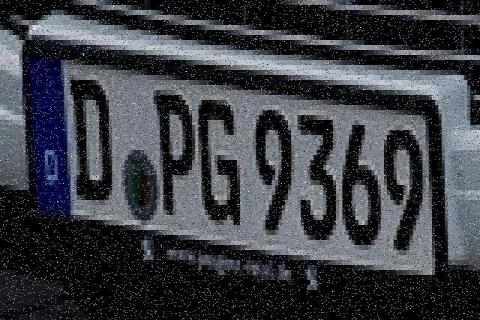LicensePlate: (19, 26, 458, 299)
